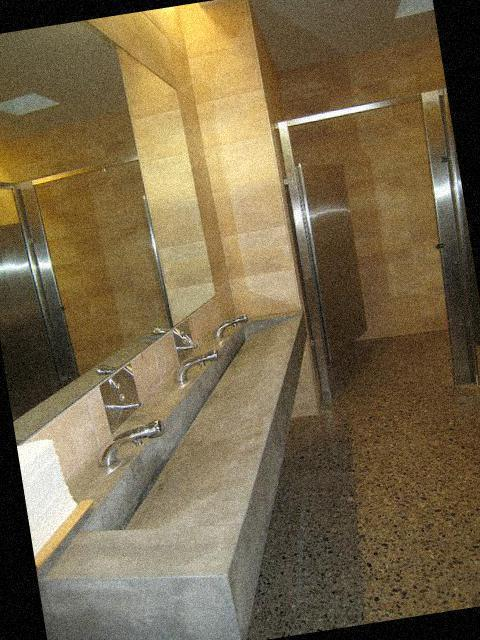Lavamanos: (50, 406, 283, 576), (153, 335, 296, 423), (206, 293, 305, 347)
